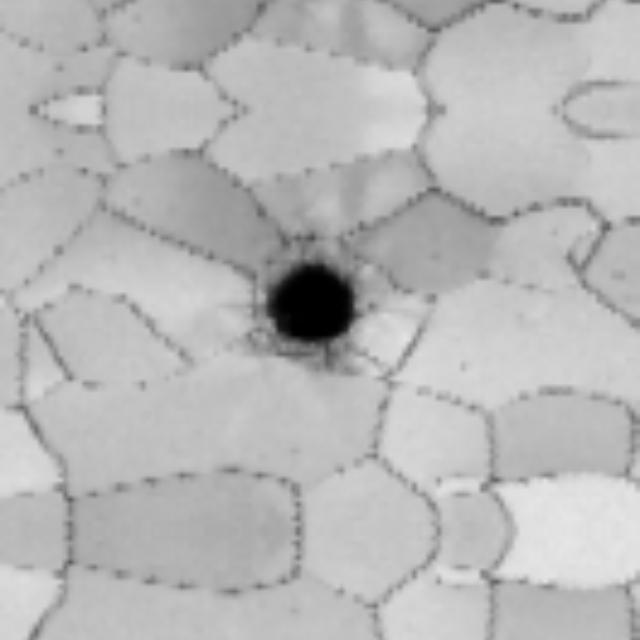good_void: (230, 241, 381, 377)
